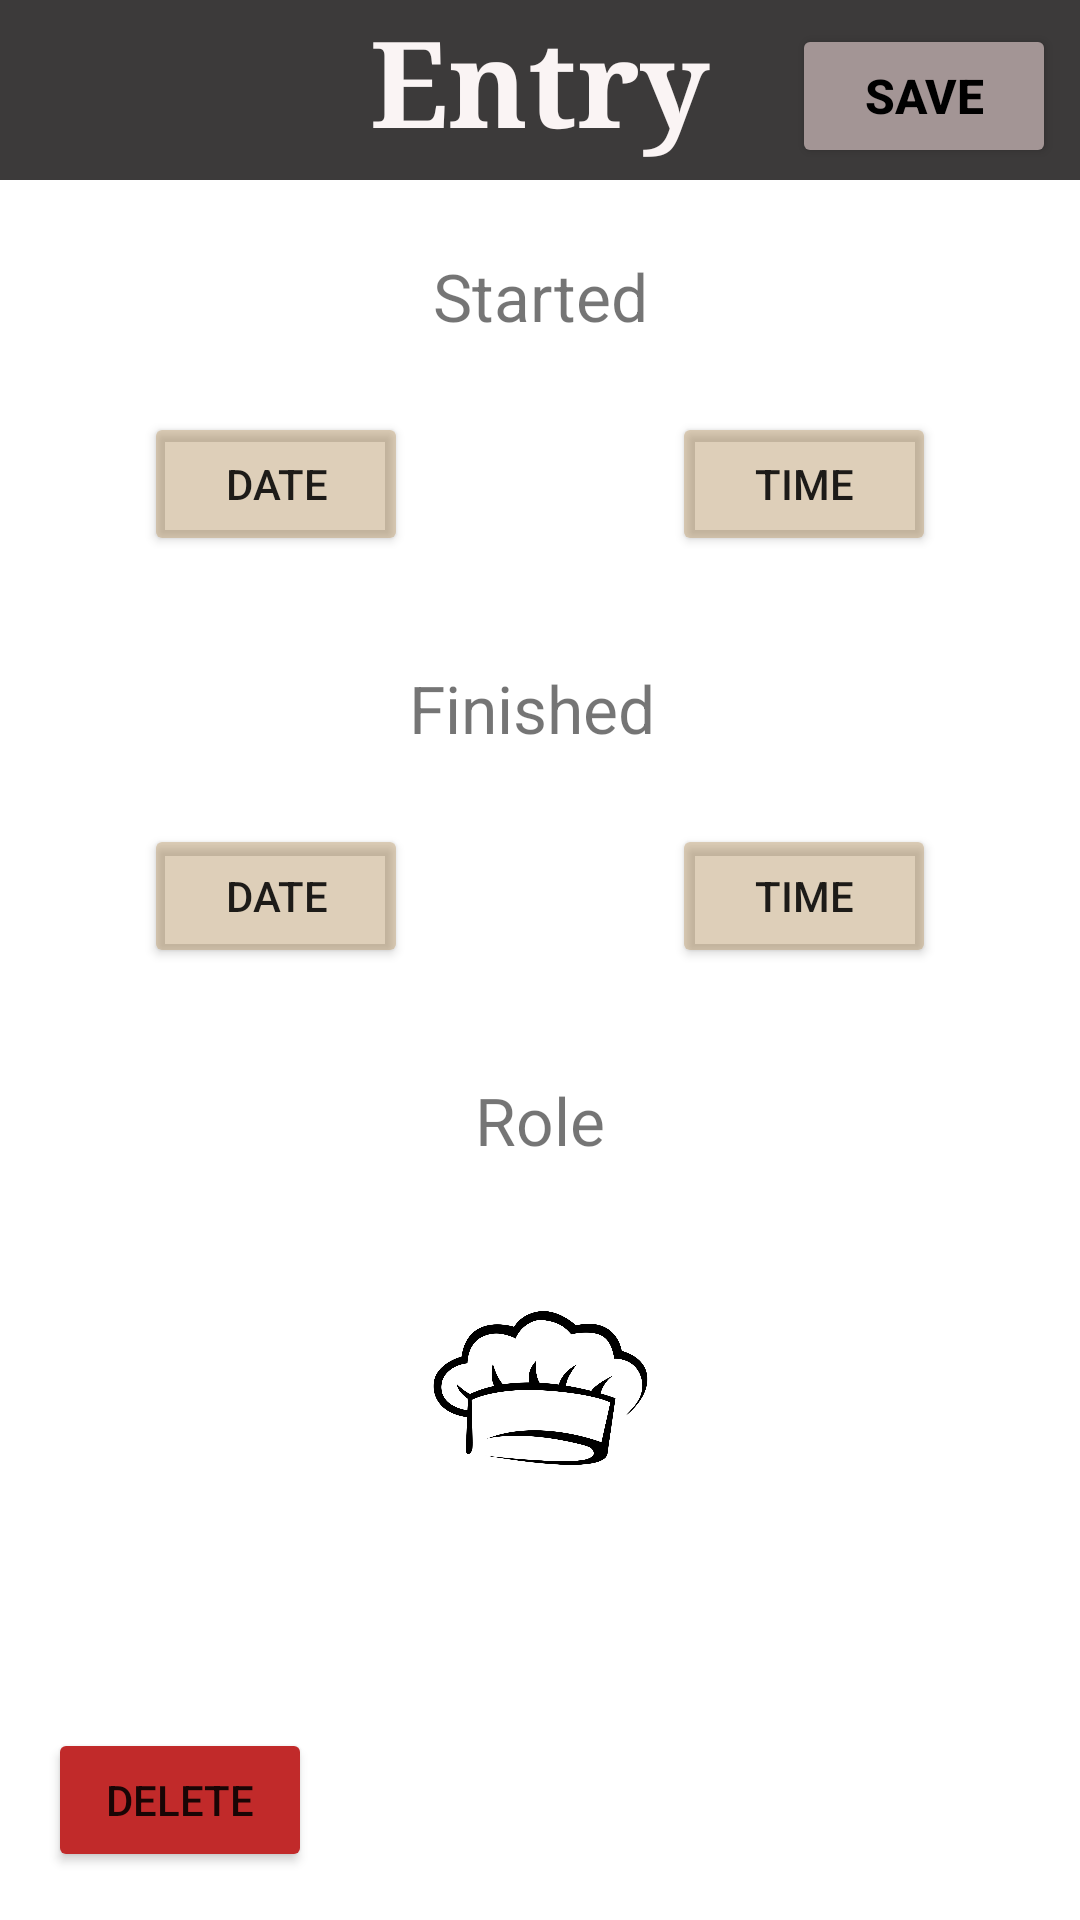

Locate icon controls on the screen. Image size 1080 × 1920, boxes as (x1, y1, x2, y2).
cookinghat: (433, 1311, 647, 1465)
